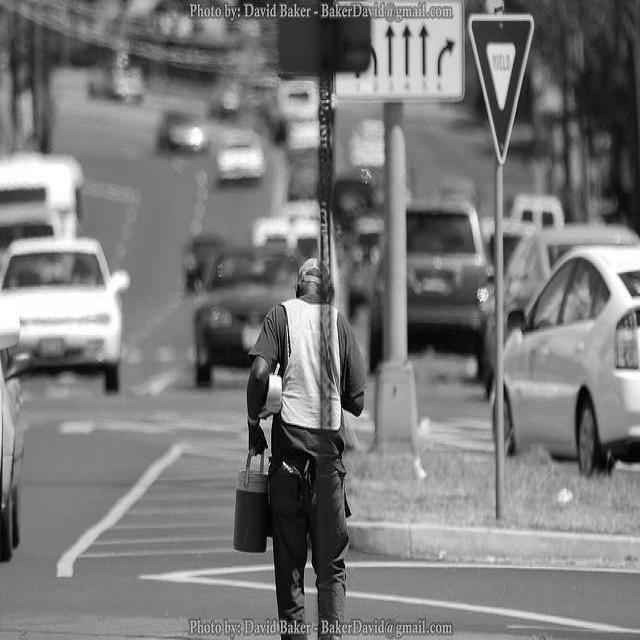vehicle: (487, 250, 640, 482), (0, 232, 134, 397), (406, 196, 496, 388), (192, 242, 304, 386), (505, 222, 640, 334), (347, 218, 386, 376), (85, 55, 147, 105), (272, 81, 321, 142), (152, 108, 209, 158), (219, 127, 265, 185), (184, 236, 233, 286), (285, 142, 323, 204), (504, 193, 565, 224)
